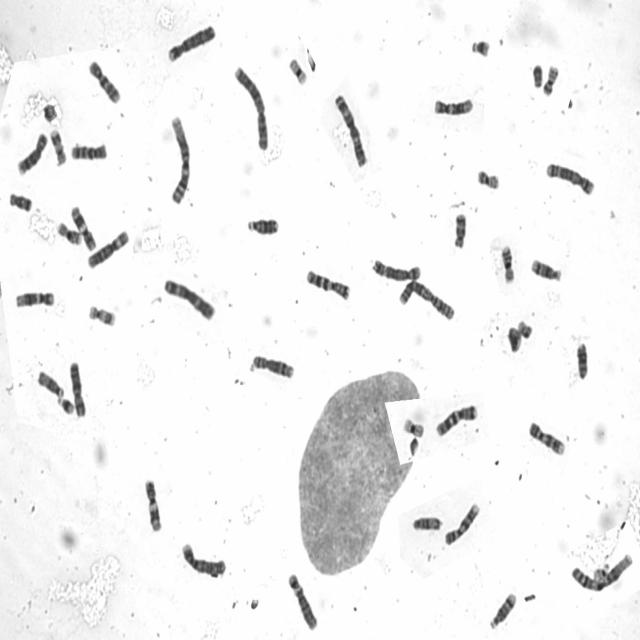A1: (568, 550, 633, 594), (168, 112, 192, 206)
A2: (232, 62, 270, 152), (396, 278, 457, 322)
A3: (332, 91, 368, 168), (162, 275, 216, 322)
B4: (165, 22, 217, 64), (179, 539, 227, 579)
B5: (544, 159, 595, 197), (370, 256, 422, 282)
C10: (87, 57, 121, 106), (68, 140, 108, 162)
C11: (69, 203, 97, 252), (142, 475, 163, 534)
C12: (12, 287, 56, 310), (432, 95, 474, 117)
C6: (286, 569, 318, 632), (85, 227, 130, 270)
C7: (433, 401, 479, 439), (304, 266, 352, 301)
C8: (15, 130, 49, 177), (248, 352, 294, 381)
C9: (443, 499, 481, 546), (526, 417, 566, 456)
D13: (245, 214, 280, 237), (574, 338, 589, 381)
D14: (488, 589, 518, 631), (529, 255, 562, 283)
D15: (36, 368, 64, 398), (412, 515, 441, 532)
E16: (55, 220, 83, 247), (499, 242, 516, 284)
E17: (87, 301, 117, 328), (48, 126, 67, 167)
E18: (451, 209, 468, 250), (7, 189, 33, 213)
F19: (286, 53, 309, 86), (401, 414, 425, 438)
F20: (541, 62, 560, 96), (475, 166, 500, 190)
G21: (468, 36, 493, 58), (56, 394, 74, 416)
G22: (518, 319, 533, 340)
X: (67, 358, 87, 419)
Y: (531, 62, 544, 88), (407, 434, 419, 456)
